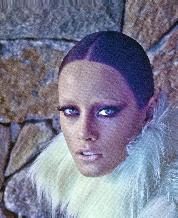face: (59, 102, 119, 161)
